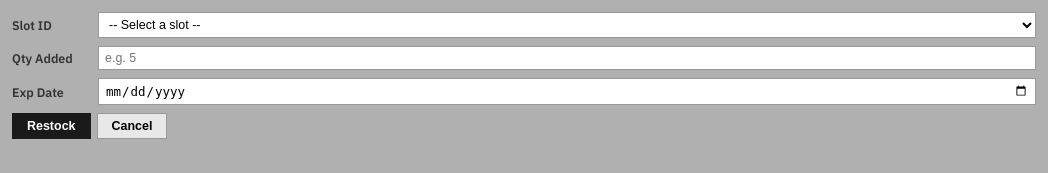
it: RestockForm › shows API error inline on HTTP 400
The image size is (1048, 173).
Select "A2 - Trail Mix" in the dropdown labelled "Slot ID" at (567, 25), box [98,12,1036,38]
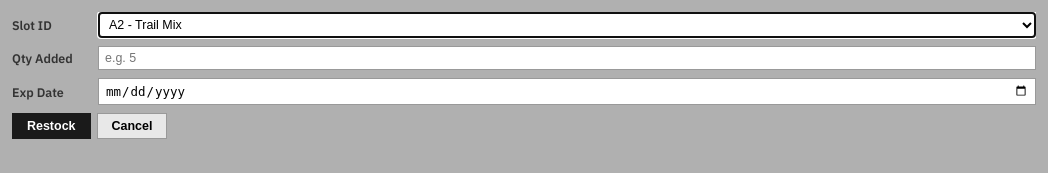
Type "1" into the number field labelled "Qty Added" at (567, 58), box [98,46,1036,70]
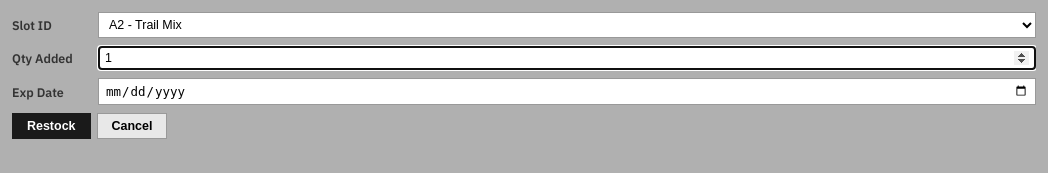
Type "2026-12-01" into the date field labelled "Exp Date" at (567, 92), box [98,78,1036,105]
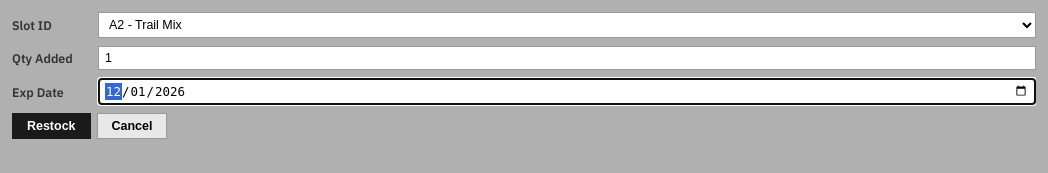
Click the button "Restock" at (51, 126), box [12,113,90,139]
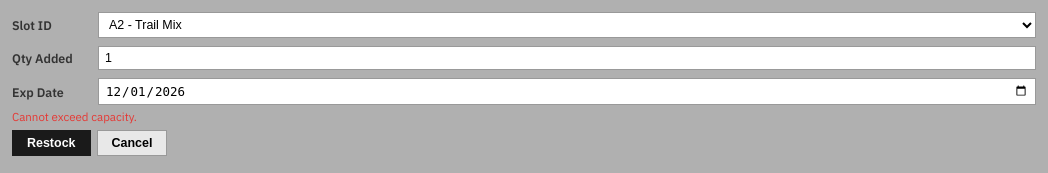
Expected: the text "Cannot exceed capacity." is shown, [12,109,137,124]
